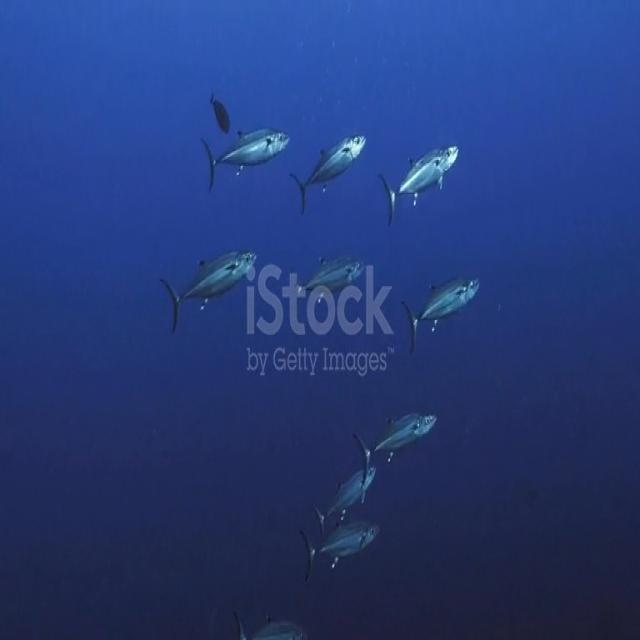fish: (375, 142, 470, 228), (162, 242, 264, 317), (284, 132, 365, 216), (354, 410, 442, 480), (405, 265, 498, 328), (198, 118, 295, 175), (281, 248, 366, 306), (310, 472, 384, 530), (299, 529, 383, 578), (227, 609, 320, 640), (209, 94, 236, 135)
